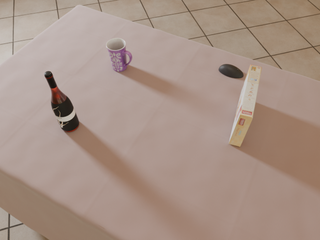bottle: (44, 71, 79, 132)
box: (229, 65, 262, 147)
cup: (106, 38, 132, 71)
mouse: (219, 64, 243, 78)
